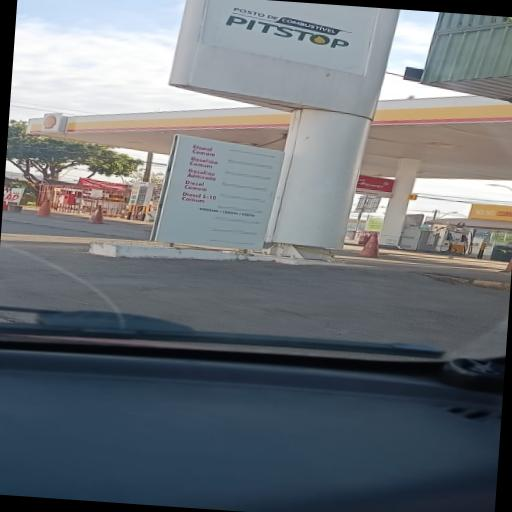ETANOL: (178, 136, 229, 161)
GASOLINA AD: (179, 169, 220, 183)
GASOLINA C: (175, 154, 228, 172)
S10: (176, 190, 223, 206)
S500: (175, 179, 213, 194)
placa: (152, 123, 292, 260)
